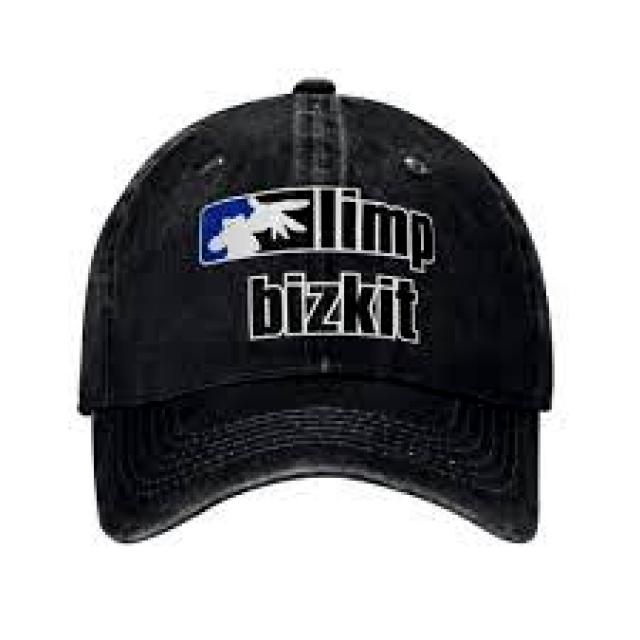hat: (80, 80, 551, 540)
